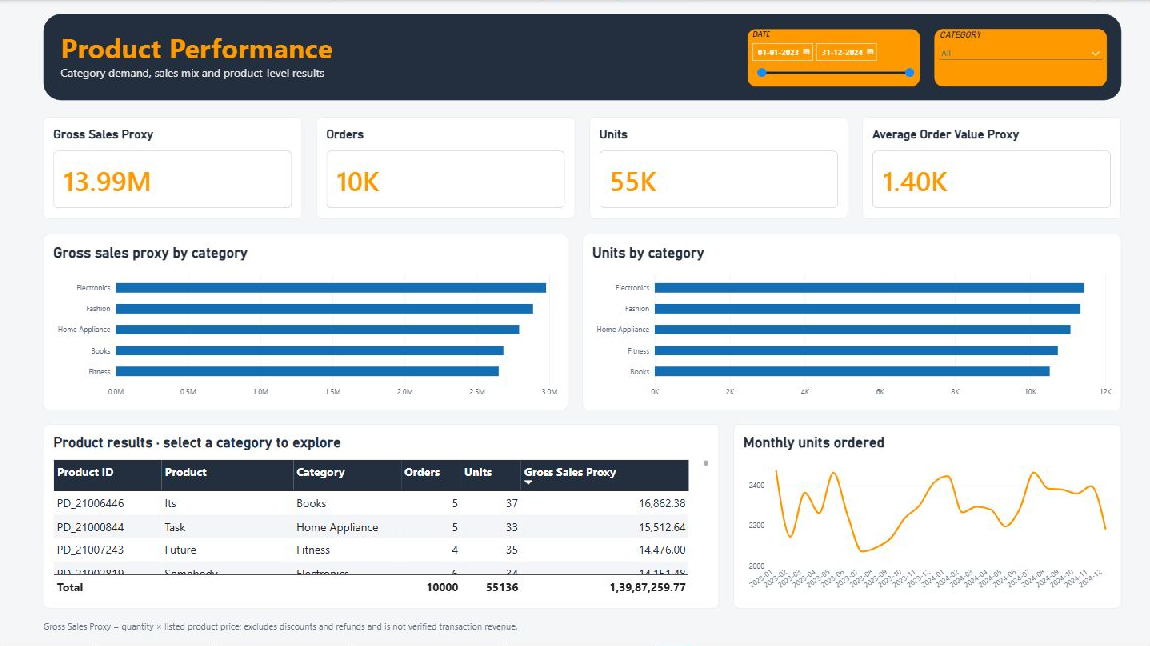

The dashboard page shown, as its layout file describes it:
{"tool":"powerbi","page":{"name":"Product Performance","canvas":[1920,1080],"ordinal":3},"visuals":[{"type":"lineChart","title":"Monthly units ordered","fields":{"Category":["Dim_Date.Year-Month"],"Y":["Fact_Orders.Units"]},"box":[1224,708,648,308],"z":0},{"type":"textbox","box":[72,24,1800,144],"z":1000},{"type":"textbox","box":[72,1036,1800,32],"z":2000},{"type":"tableEx","title":"Product results · select a category to explore","fields":{"Values":["Dim_Product.P_ID","Dim_Product.PName","Dim_Product.Category","Fact_Orders.Orders","Fact_Orders.Units","Fact_Orders.Gross Sales Proxy"]},"box":[72,708,1128,308],"z":3000},{"type":"slicer","fields":{"Values":["Dim_Date.Date"]},"box":[1248,48,288,96],"z":4000},{"type":"cardVisual","title":"Orders","fields":{"Data":["Fact_Orders.Orders"]},"box":[528,196,432,170],"z":5000},{"type":"cardVisual","title":"Units","fields":{"Data":["Fact_Orders.Units"]},"box":[984,196,432,170],"z":6000},{"type":"cardVisual","title":"Gross Sales Proxy","fields":{"Data":["Fact_Orders.Gross Sales Proxy"]},"box":[72,196,432,170],"z":7000},{"type":"cardVisual","title":"Average Order Value Proxy","fields":{"Data":["Fact_Orders.Average Order Value Proxy"]},"box":[1440,196,432,170],"z":8000},{"type":"clusteredBarChart","title":"Units by category","fields":{"Category":["Dim_Product.Category"],"Y":["Fact_Orders.Units"]},"box":[972,390,900,294],"z":9000},{"type":"slicer","fields":{"Values":["Dim_Product.Category"]},"box":[1560,48,288,96],"z":10000},{"type":"clusteredBarChart","title":"Gross sales proxy by category","fields":{"Category":["Dim_Product.Category"],"Y":["Fact_Orders.Gross Sales Proxy"]},"box":[72,390,876,294],"z":11000}]}

Visuals, with their boxes in screenshot pixels (x1, y1, x2, y2), scaled from the page's 1920x1080 canvas onto the 1150x646 screenshot:
"Monthly units ordered" lineChart: (733, 423, 1121, 608)
textbox: (43, 14, 1121, 100)
textbox: (43, 620, 1121, 639)
"Product results · select a category to explore" tableEx: (43, 423, 719, 608)
slicer - Dim_Date.Date: (748, 29, 920, 86)
"Orders" cardVisual: (316, 117, 575, 219)
"Units" cardVisual: (589, 117, 848, 219)
"Gross Sales Proxy" cardVisual: (43, 117, 302, 219)
"Average Order Value Proxy" cardVisual: (862, 117, 1121, 219)
"Units by category" clusteredBarChart: (582, 233, 1121, 409)
slicer - Dim_Product.Category: (934, 29, 1107, 86)
"Gross sales proxy by category" clusteredBarChart: (43, 233, 568, 409)
